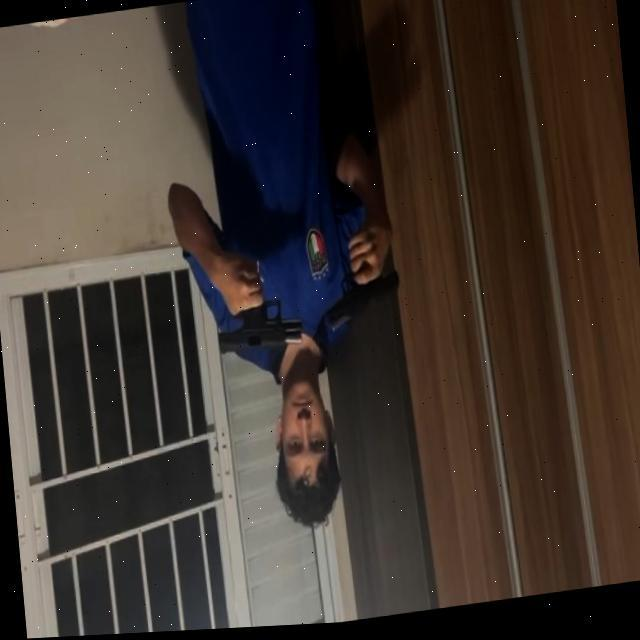gun: (216, 300, 304, 363), (322, 269, 403, 336)
